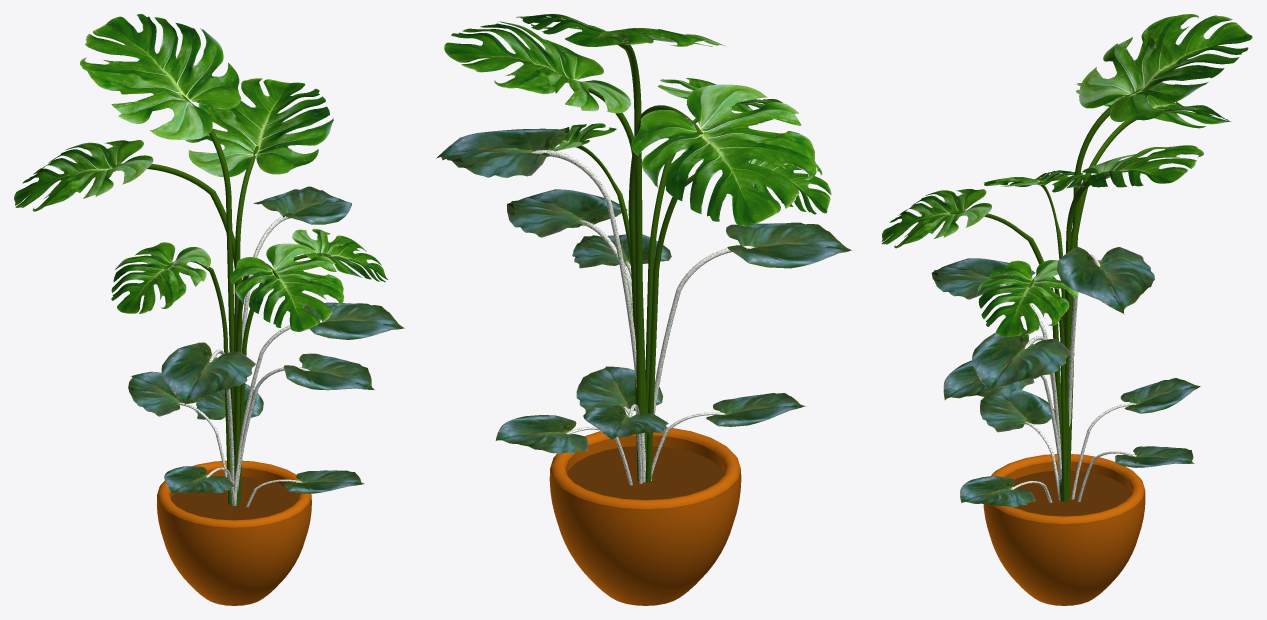
The model's file is indoor_plant_1.dae.
3 views of the same model, side by side, from view 1: azimuth 30°, elevation 25°; view 2: azimuth 150°, elevation 25°; view 3: azimuth 270°, elevation 25° (orthographic). The views are drawn at different scales.
Visible parts, largest first — view 1: lehti-1_1 (×6), pieni_lehti-leikattu_kuva (×8), ruukku (×2), varsi-1 (×2), pienilehti-1_varsi (×2), varsi-2, lehti-5_varsi, lehti-4_varsi, lehti-3_varsi; view 2: lehti-1_1 (×6), ruukku (×2), pieni_lehti-leikattu_kuva (×8), varsi-1 (×2), lehti-5_varsi, pieni-5_varsi, lehti-4_varsi, varsi-2, pienilehti-1_varsi, lehti-3_varsi; view 3: lehti-1_1 (×6), pieni_lehti-leikattu_kuva (×8), ruukku (×2), varsi-2, varsi-1, lehti-4_varsi, lehti-3_varsi, pieni-5_varsi, pienilehti-1_varsi.
Part boxes in pixels (left/top/right/bottom): lehti-1_1 (×6): left=14, top=14, right=387, bottom=331; pieni_lehti-leikattu_kuva (×8): left=128, top=186, right=404, bottom=493; ruukku (×2): left=157, top=460, right=311, bottom=605; varsi-1 (×2): left=182, top=94, right=258, bottom=446; pienilehti-1_varsi (×2): left=209, top=320, right=324, bottom=505; varsi-2: left=112, top=163, right=242, bottom=505; lehti-5_varsi: left=164, top=261, right=231, bottom=505; lehti-4_varsi: left=234, top=263, right=279, bottom=505; lehti-3_varsi: left=239, top=253, right=330, bottom=504; lehti-1_1 (×6): left=444, top=14, right=831, bottom=226; ruukku (×2): left=549, top=427, right=741, bottom=605; pieni_lehti-leikattu_kuva (×8): left=436, top=128, right=852, bottom=453; varsi-1 (×2): left=575, top=42, right=647, bottom=480; lehti-5_varsi: left=645, top=173, right=695, bottom=482; pieni-5_varsi: left=532, top=150, right=645, bottom=482; lehti-4_varsi: left=645, top=118, right=697, bottom=413; varsi-2: left=628, top=105, right=702, bottom=452; pienilehti-1_varsi: left=645, top=246, right=754, bottom=460; lehti-3_varsi: left=569, top=141, right=636, bottom=448; lehti-1_1 (×6): left=881, top=14, right=1252, bottom=336; pieni_lehti-leikattu_kuva (×8): left=931, top=247, right=1200, bottom=506; ruukku (×2): left=983, top=454, right=1145, bottom=605; varsi-2: left=1060, top=119, right=1136, bottom=501; varsi-1: left=1066, top=88, right=1142, bottom=501; lehti-4_varsi: left=949, top=210, right=1061, bottom=500; lehti-3_varsi: left=1028, top=276, right=1066, bottom=501; pieni-5_varsi: left=1068, top=254, right=1100, bottom=426; pienilehti-1_varsi: left=1024, top=336, right=1061, bottom=499.
Bounding box in the file's own units: 48.09 × 47.5 × 76.35.
Materials: 6 (2 with a texture image).
